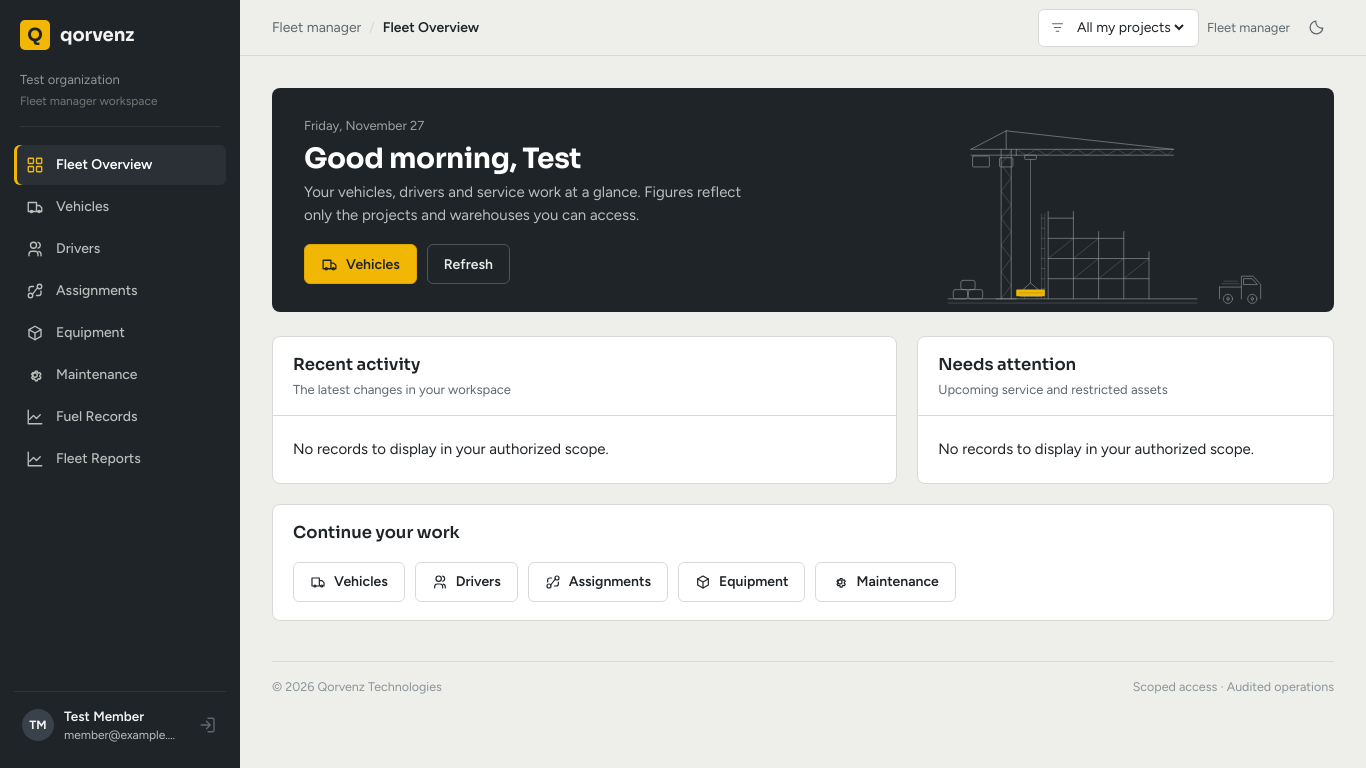
Test: session lifecycle › invalidates the backend session before clearing authentication
Expected: the heading "Good morning, Test" is shown, [304,142,581,175]
What coordinates should you click on to do the following:
click the button titled "Sign out"
I would click on:
 (208, 725)
Its box is [190,707,226,743].
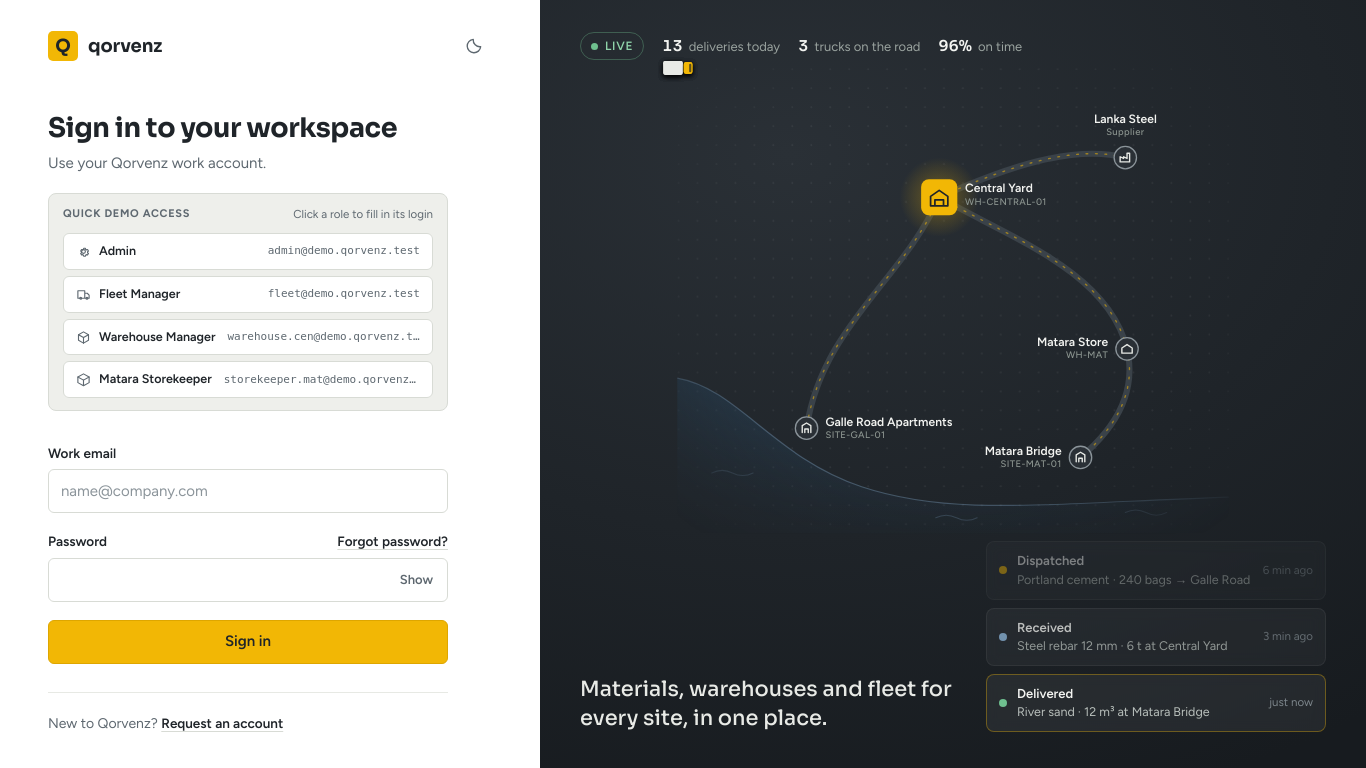
Now the heading "Sign in to your workspace" is shown, box [48,112,448,144]
